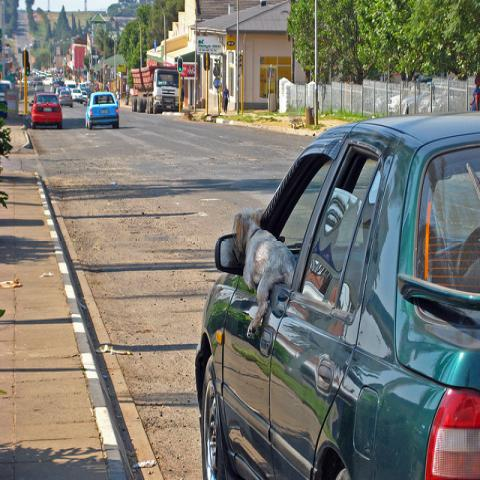car: (194, 109, 480, 474), (85, 92, 120, 130), (30, 91, 63, 129), (58, 90, 73, 109), (0, 80, 13, 100), (71, 88, 82, 104), (55, 86, 70, 97), (35, 80, 44, 92), (42, 77, 54, 86)
truck: (129, 66, 179, 116), (64, 80, 77, 92)
